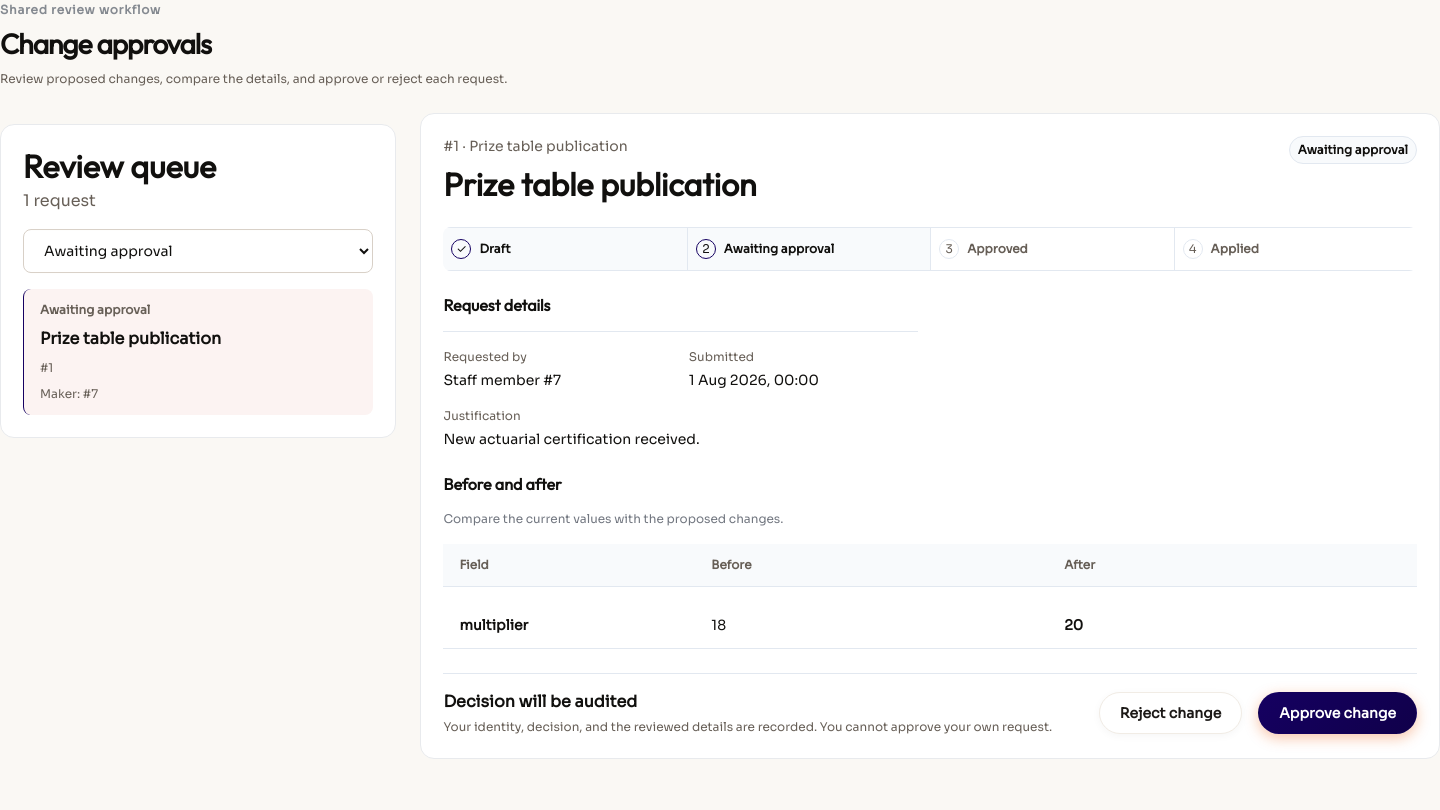
Scenario: MakerCheckerWorkspace › surfaces the backend's real self-approval refusal rather than a client-guessed rule
Expected: the heading "Prize table publication" is shown, [444,165,757,203]
Click the button "Approve change" at (1338, 713), box [1258,692,1417,734]
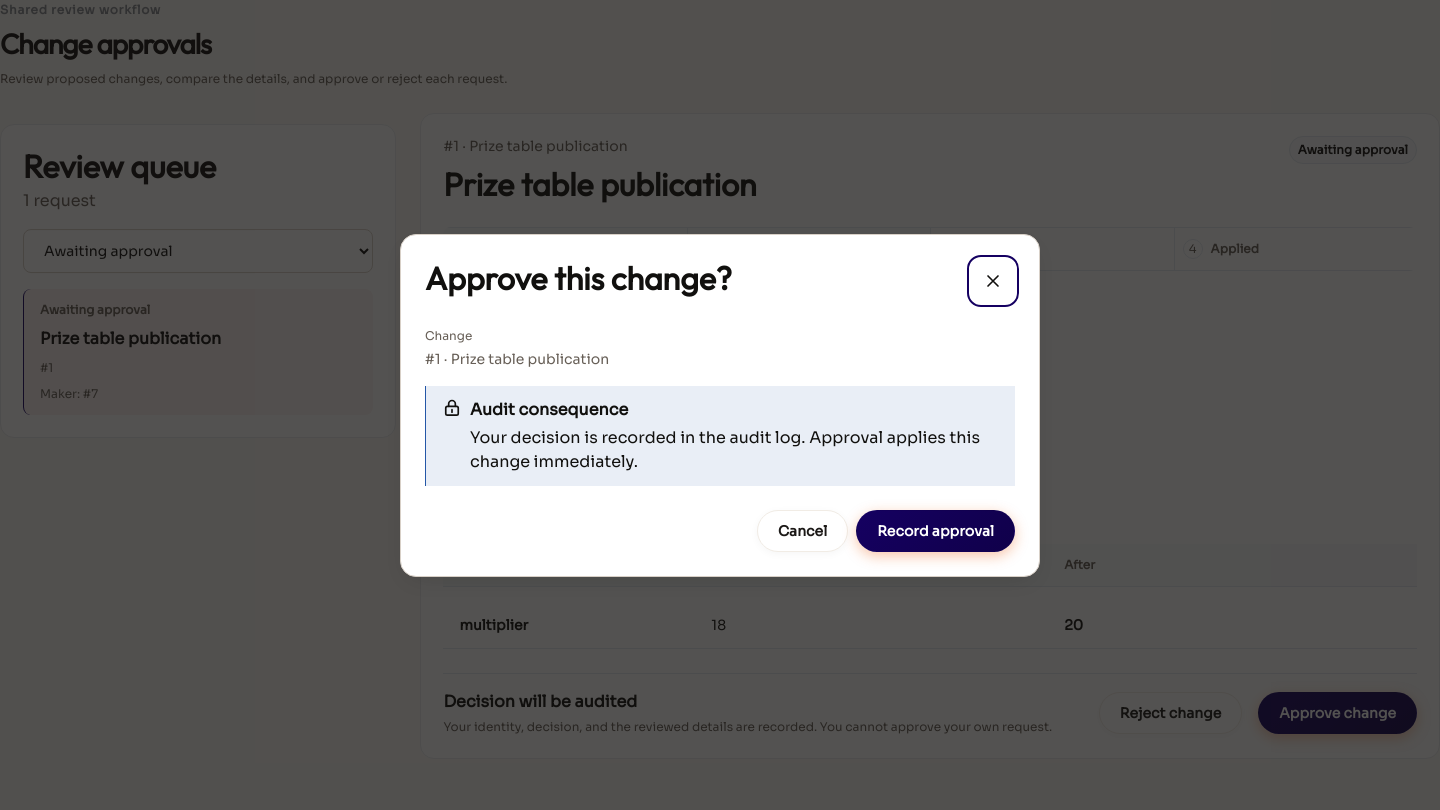
Click the button "Record approval" at (936, 530), box [856,510,1015,552]
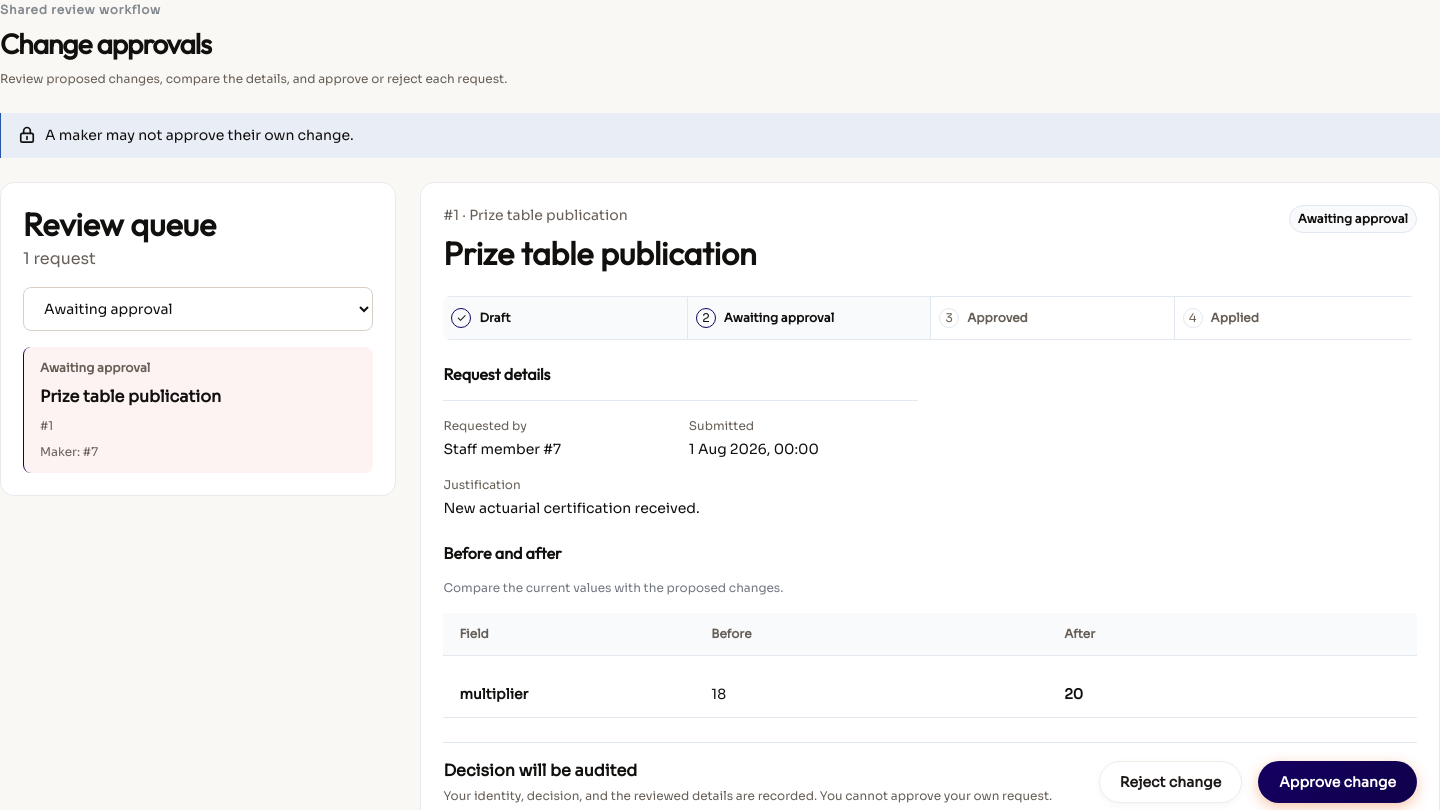
Expected: the message reads "A maker may not approve their own change.", [45,126,354,144]
